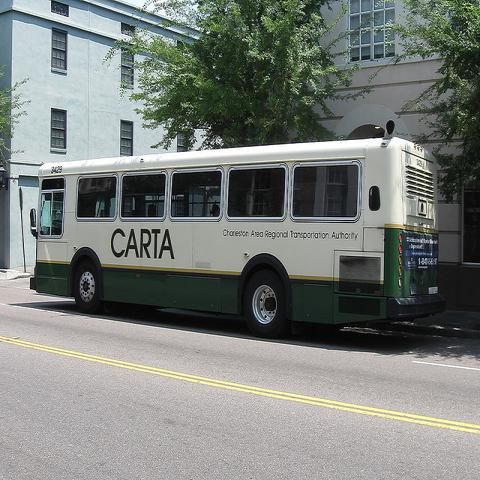bus: (26, 118, 444, 336)
